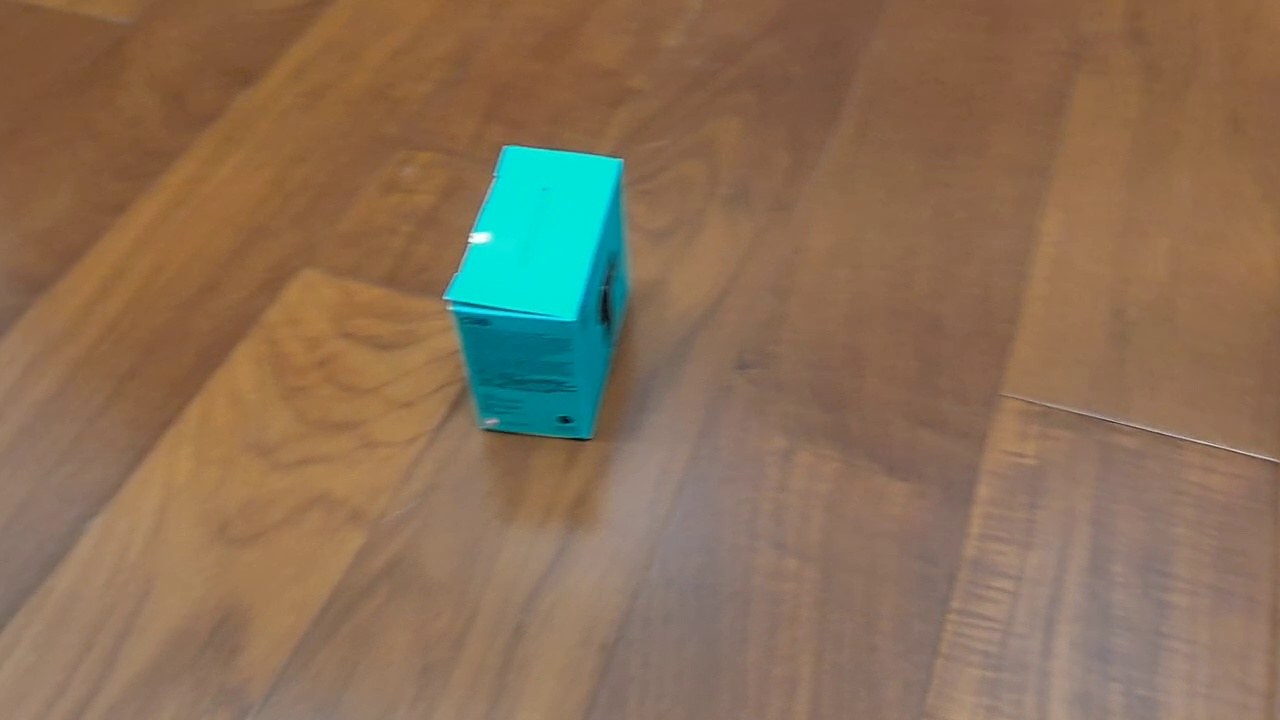webcam: (439, 143, 632, 443)
